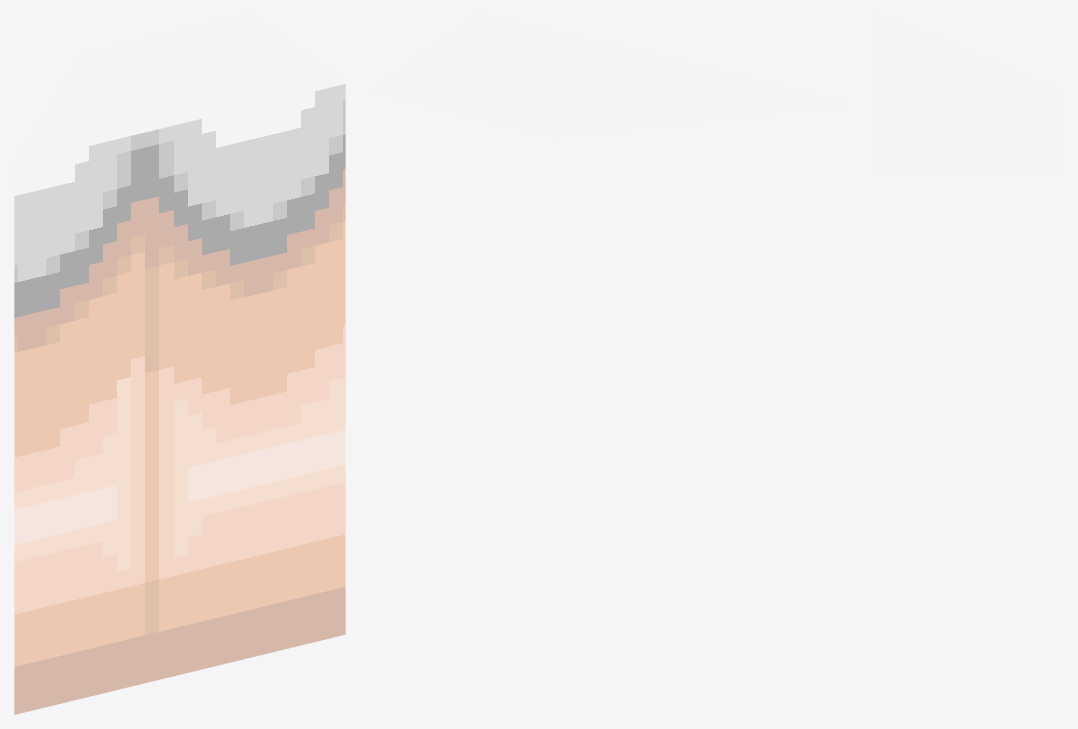
The picture shows the model from 3 angles, left to right: view 1: azimuth 30°, elevation 25°; view 2: azimuth 150°, elevation 25°; view 3: azimuth 270°, elevation 25°; orthographic projection. The views are drawn at different scales.
Bounding box in the file's own units: 1 × 1.59 × 0.5014.
1 material, 1 textured.
